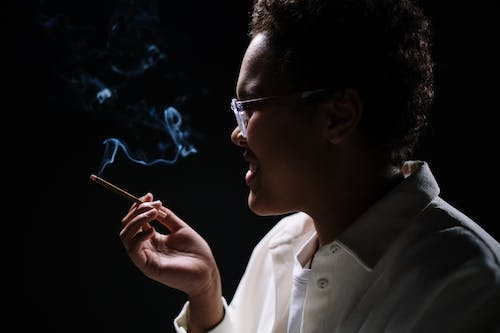cigarette: (89, 173, 170, 220)
